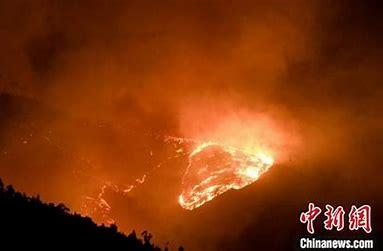smoke: (165, 136, 280, 212)
